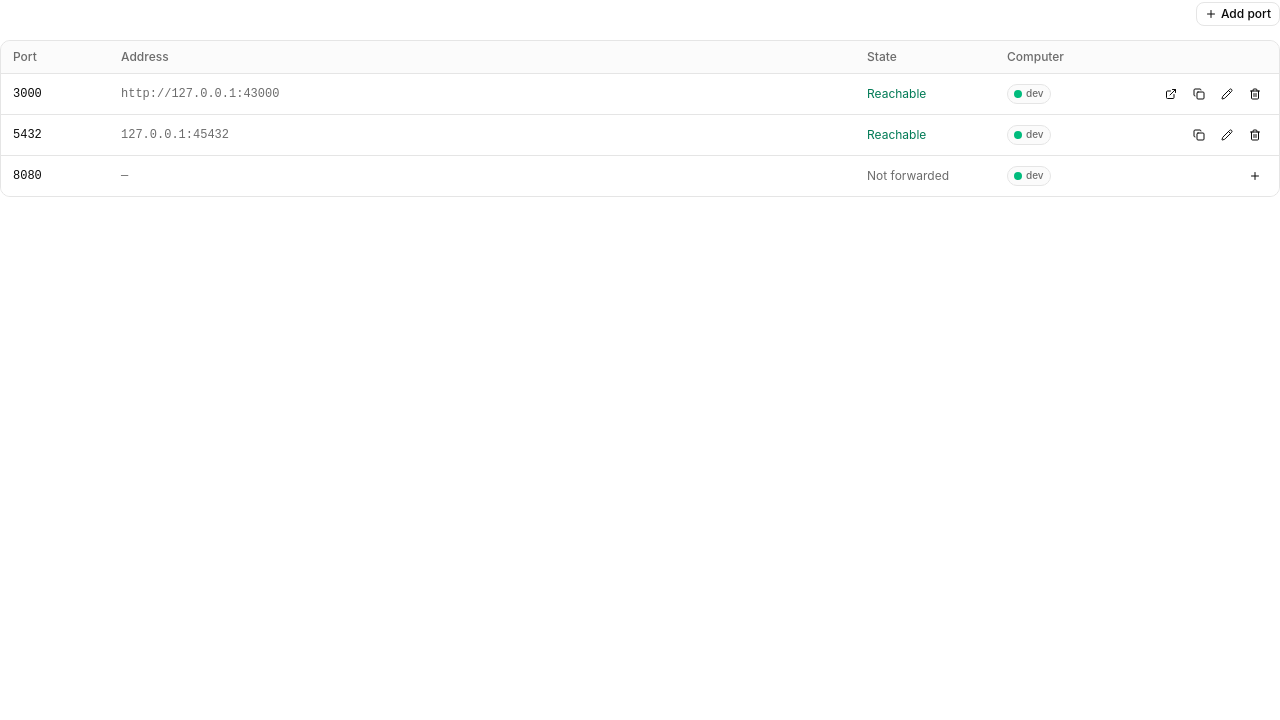
Test: labels the removal confirmation in words and dismisses on outside click
Click the button named "Remove port 3000 from dev".
click(1255, 94)  # box [1243,82,1267,106]
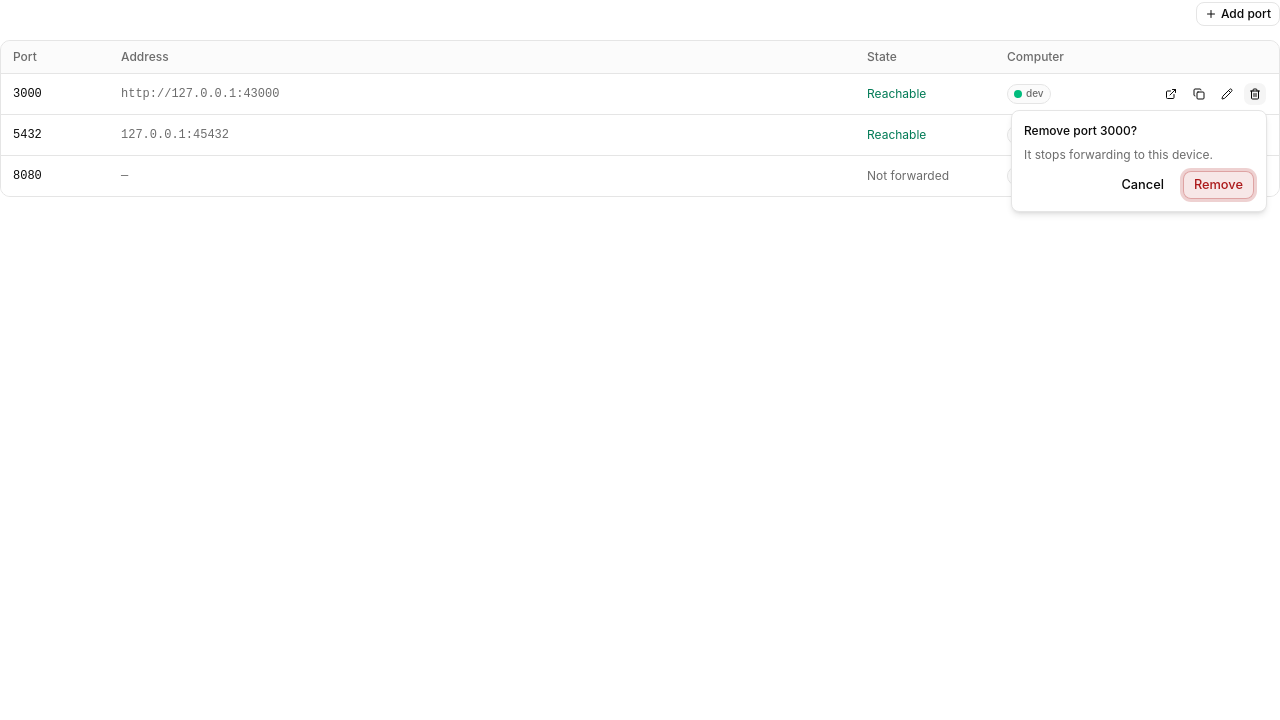
Check: the button "Cancel" is shown, box [1110,171,1175,199]
Check: the button "Remove" is shown, box [1183,171,1254,199]
Click the text "127.0.0.1:45432".
click(175, 135)  # box [121,128,229,142]
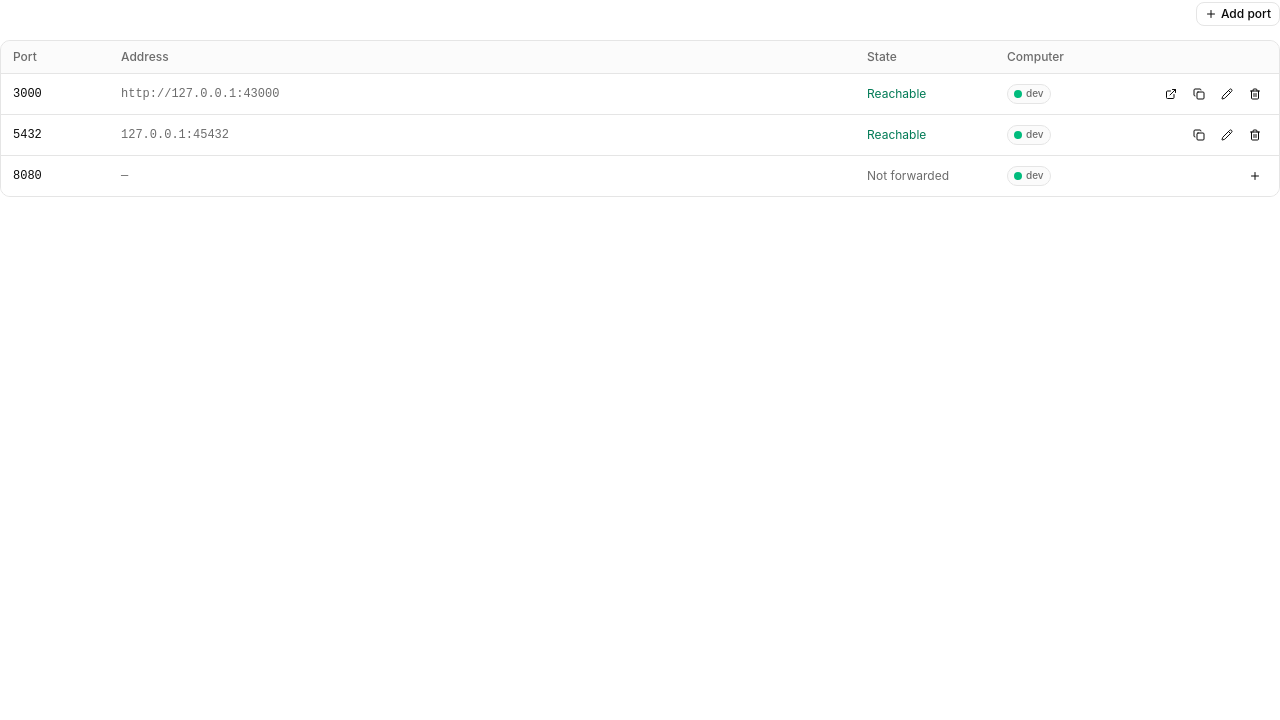
Check: the text "Remove" is gone
